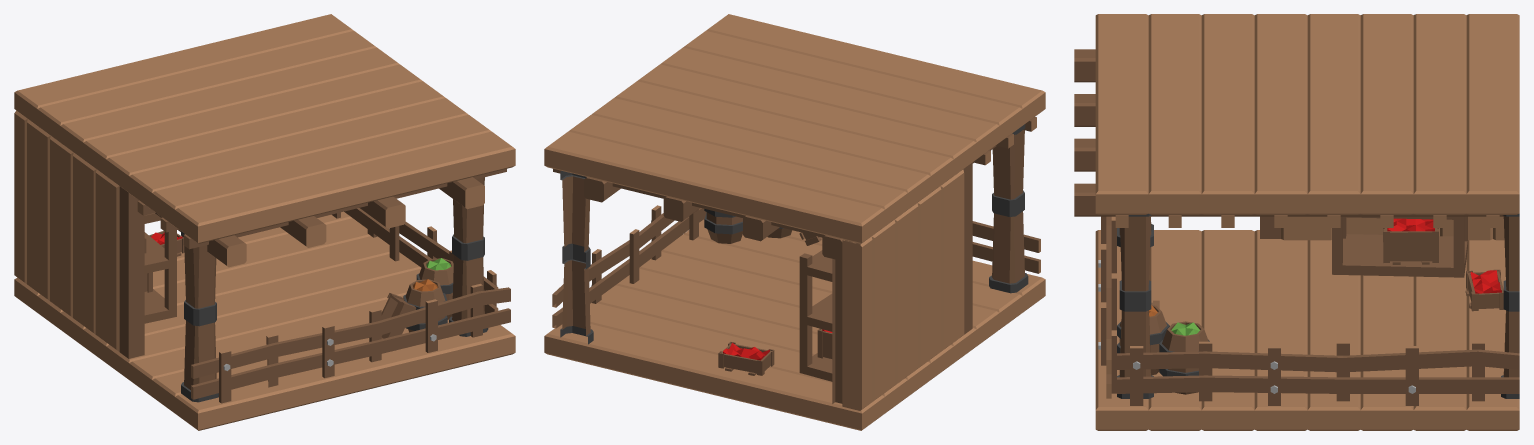
File: FoodStorage_Lvl_01_Corner_Left.fbx
The picture shows the model from 3 angles, left to right: view 1: azimuth 30°, elevation 25°; view 2: azimuth 150°, elevation 25°; view 3: azimuth 270°, elevation 25°; orthographic projection. The views are drawn at different scales.
Parts seen in each view (by area): view 1: FoodStorage_Lvl_01_Corner_Left; view 2: FoodStorage_Lvl_01_Corner_Left; view 3: FoodStorage_Lvl_01_Corner_Left.
Part boxes in pixels (x1,y1,x2,y2): FoodStorage_Lvl_01_Corner_Left: (14,14,515,430); FoodStorage_Lvl_01_Corner_Left: (544,14,1045,430); FoodStorage_Lvl_01_Corner_Left: (1074,14,1519,430).
Size of the model in its own units: 8 by 5 by 8.4.
